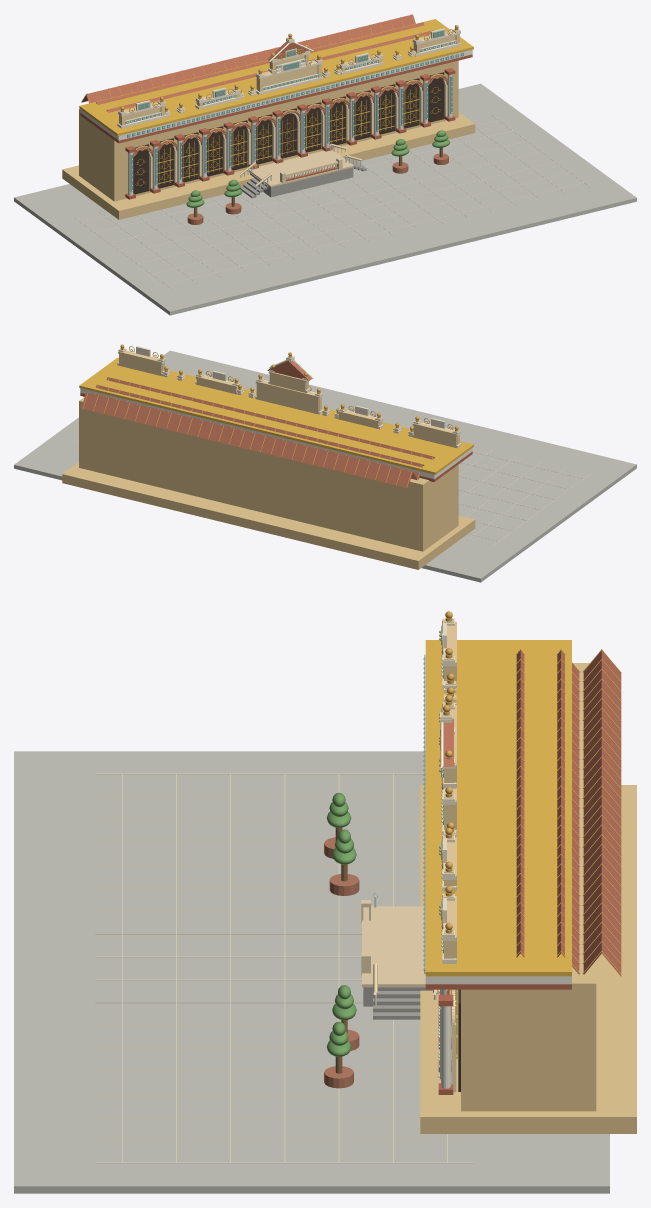
File: chanh-dien-loi-ben.glb
The picture shows the model from 3 angles, top to bottom: view 1: azimuth 30°, elevation 25°; view 2: azimuth 150°, elevation 25°; view 3: azimuth 270°, elevation 25°; orthographic projection. The views are drawn at different scales.
Visible parts, largest first — view 1: Sân, Viền mái trên, Khối kiến trúc, Nền chính điện, Mái ngói phía sau.002, Diềm gốm, Nền tiền đình, Viền mái dưới, Mái ngói phía sau.001, Mái ngói phía sau, Bệ tiền đình, Cửa vòm (+15 smaller); view 2: Khối kiến trúc, Sân, Viền mái trên, Nền chính điện, Mái ngói phía sau.002, Mái ngói phía sau.001, Mái ngói phía sau, Diềm gốm, Thân ô mái.004, Thân ô mái, Thân ô mái.001, Thân ô mái.005 (+3 smaller); view 3: Sân, Viền mái trên, Khối kiến trúc, Nền chính điện, Mái ngói phía sau.002, Mái ngói phía sau.001, Nền tiền đình, Mái ngói phía sau, Diềm gốm, Viền mái dưới, Cột.013.
Boxes of the visible parts, box(x1,y1,x2,y2) form: Sân: box(14, 83, 636, 315); Viền mái trên: box(79, 19, 473, 136); Khối kiến trúc: box(79, 60, 458, 201); Nền chính điện: box(62, 112, 475, 219); Mái ngói phía sau.002: box(81, 14, 415, 103); Diềm gốm: box(80, 49, 472, 140); Nền tiền đình: box(249, 150, 353, 187); Viền mái dưới: box(80, 54, 472, 143); Mái ngói phía sau.001: box(96, 22, 424, 104); Mái ngói phía sau: box(107, 30, 434, 112); Bệ tiền đình: box(249, 167, 353, 197); Cửa vòm: box(133, 144, 149, 194); Khối kiến trúc: box(79, 397, 458, 551); Sân: box(14, 350, 636, 582); Viền mái trên: box(79, 357, 473, 474); Nền chính điện: box(62, 462, 475, 569); Mái ngói phía sau.002: box(81, 392, 417, 488); Mái ngói phía sau.001: box(94, 385, 424, 479); Mái ngói phía sau: box(106, 377, 434, 459); Diềm gốm: box(80, 388, 472, 479); Thân ô mái.004: box(256, 380, 318, 414); Thân ô mái: box(413, 423, 456, 447); Thân ô mái.001: box(119, 351, 161, 375); Thân ô mái.005: box(269, 371, 305, 392); Sân: box(14, 751, 609, 1193); Viền mái trên: box(425, 640, 571, 976); Khối kiến trúc: box(461, 663, 596, 1111); Nền chính điện: box(420, 785, 636, 1133); Mái ngói phía sau.002: box(583, 649, 621, 976); Mái ngói phía sau.001: box(557, 649, 579, 974); Nền tiền đình: box(362, 906, 425, 987); Mái ngói phía sau: box(516, 649, 524, 957); Diềm gốm: box(425, 976, 571, 984); Viền mái dưới: box(425, 984, 571, 989); Cột.013: box(441, 1006, 450, 1088).
Size of the model in its own units: 38 by 11.04 by 23.
